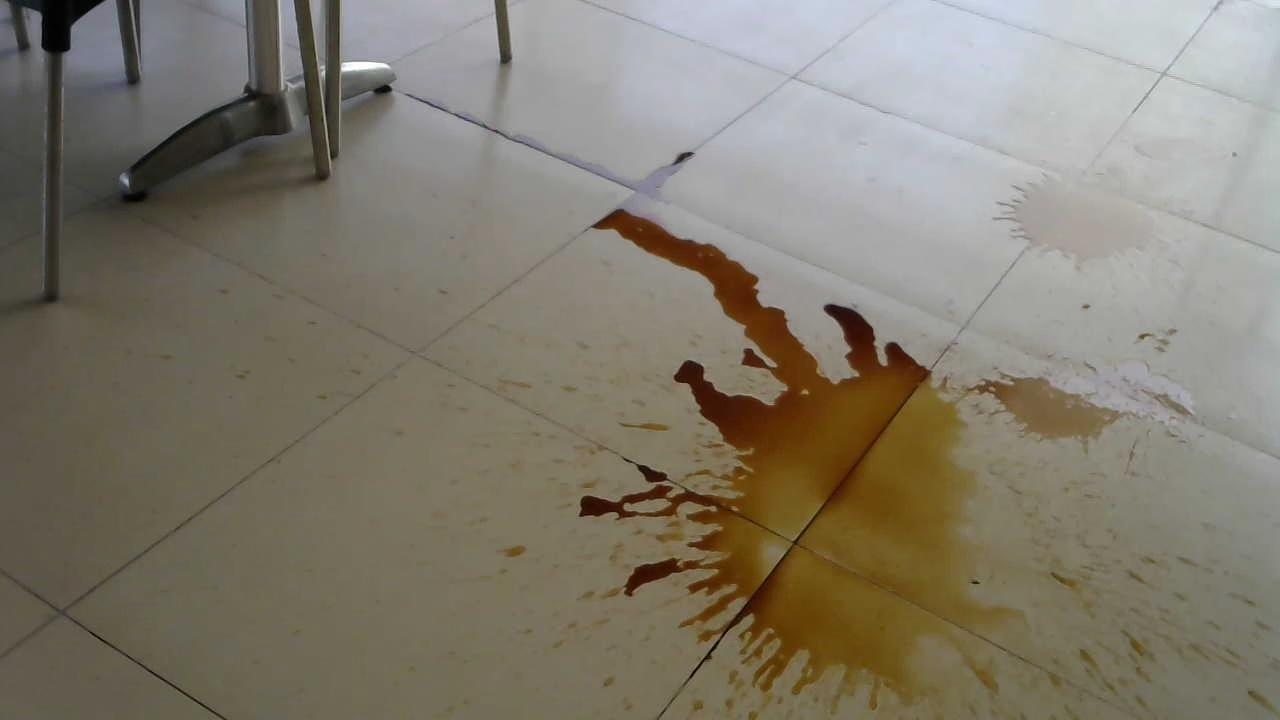dirty_floor: (554, 142, 1259, 713)
